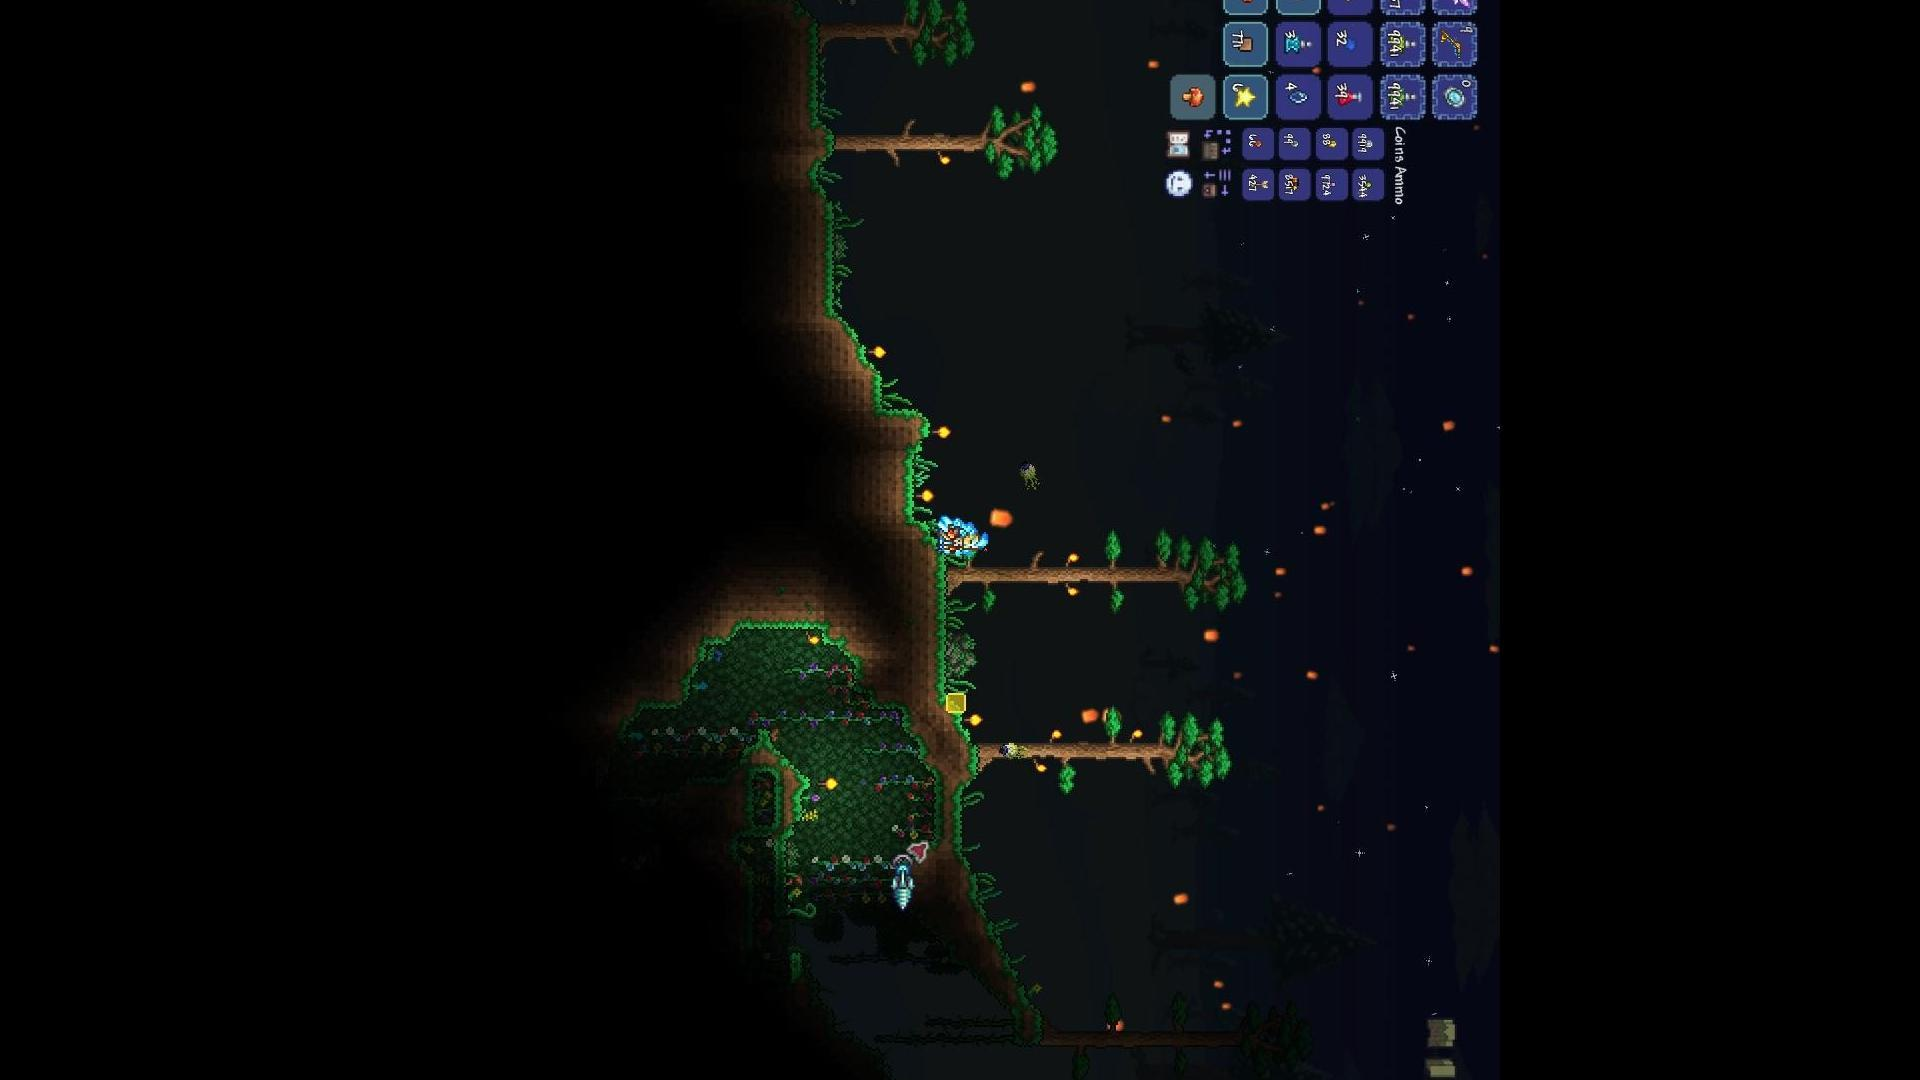mirror: (1440, 82, 1468, 108)
star: (1233, 87, 1257, 108)
